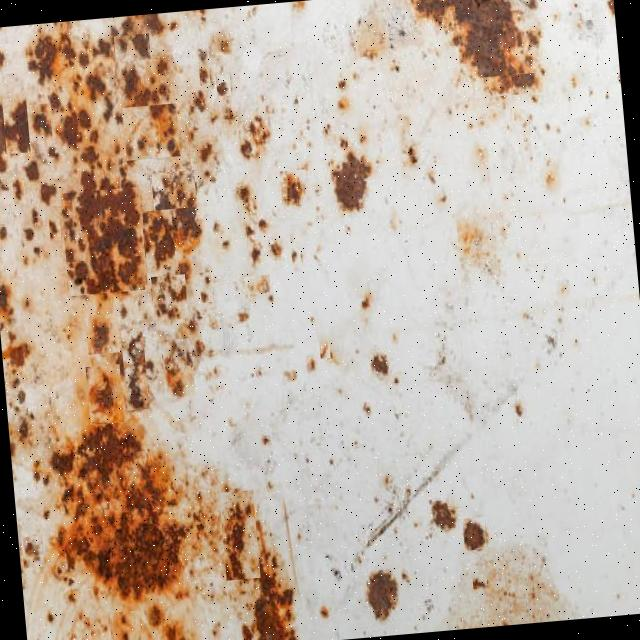Corrosion: (0, 0, 640, 640), (41, 413, 192, 607), (408, 0, 545, 102), (64, 172, 148, 296)
